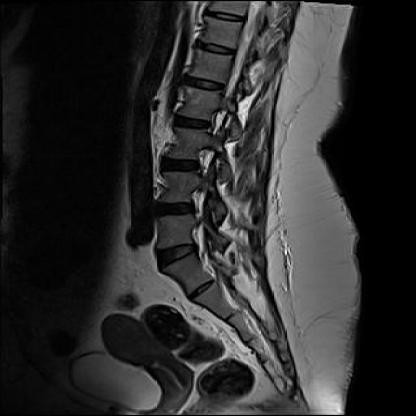Degenerative Disc Diseaserotation: (153, 241, 208, 269), (153, 199, 198, 220)
Disc Relaxationrotation: (151, 241, 206, 271)
